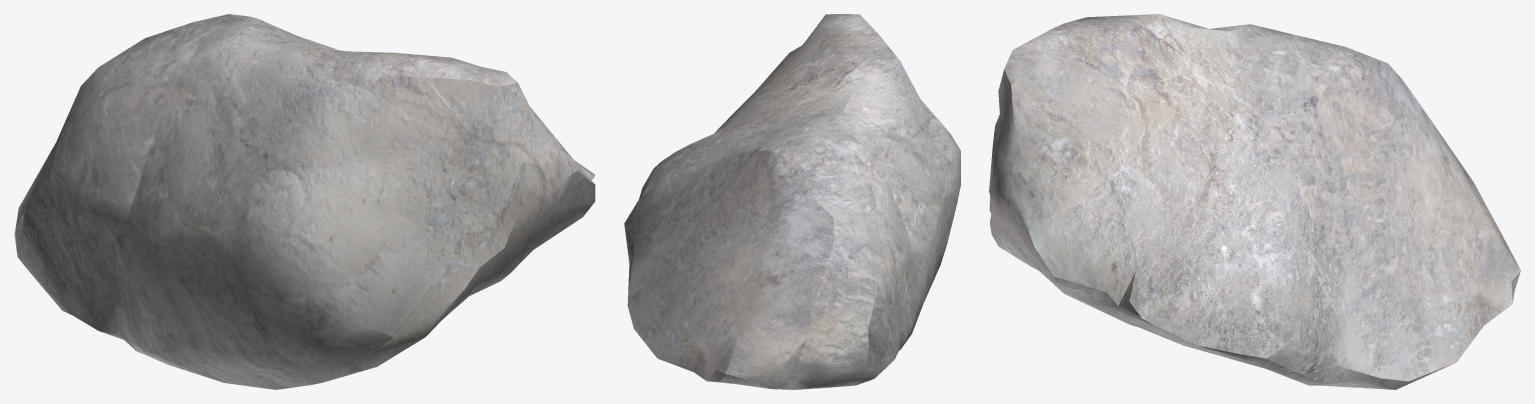
The model's file is rock_00_lp_2k.fbx.
The picture shows the model from 3 angles, left to right: view 1: azimuth 30°, elevation 25°; view 2: azimuth 150°, elevation 25°; view 3: azimuth 270°, elevation 25°; orthographic projection. The views are drawn at different scales.
Visible parts, largest first — view 1: rock_00_lp_2k; view 2: rock_00_lp_2k; view 3: rock_00_lp_2k.
Boxes of the visible parts, left/top/right/bottom form: rock_00_lp_2k: left=14, top=14, right=595, bottom=389; rock_00_lp_2k: left=624, top=14, right=960, bottom=389; rock_00_lp_2k: left=989, top=14, right=1520, bottom=389.
Size of the model in its own units: 197 by 149 by 226.
